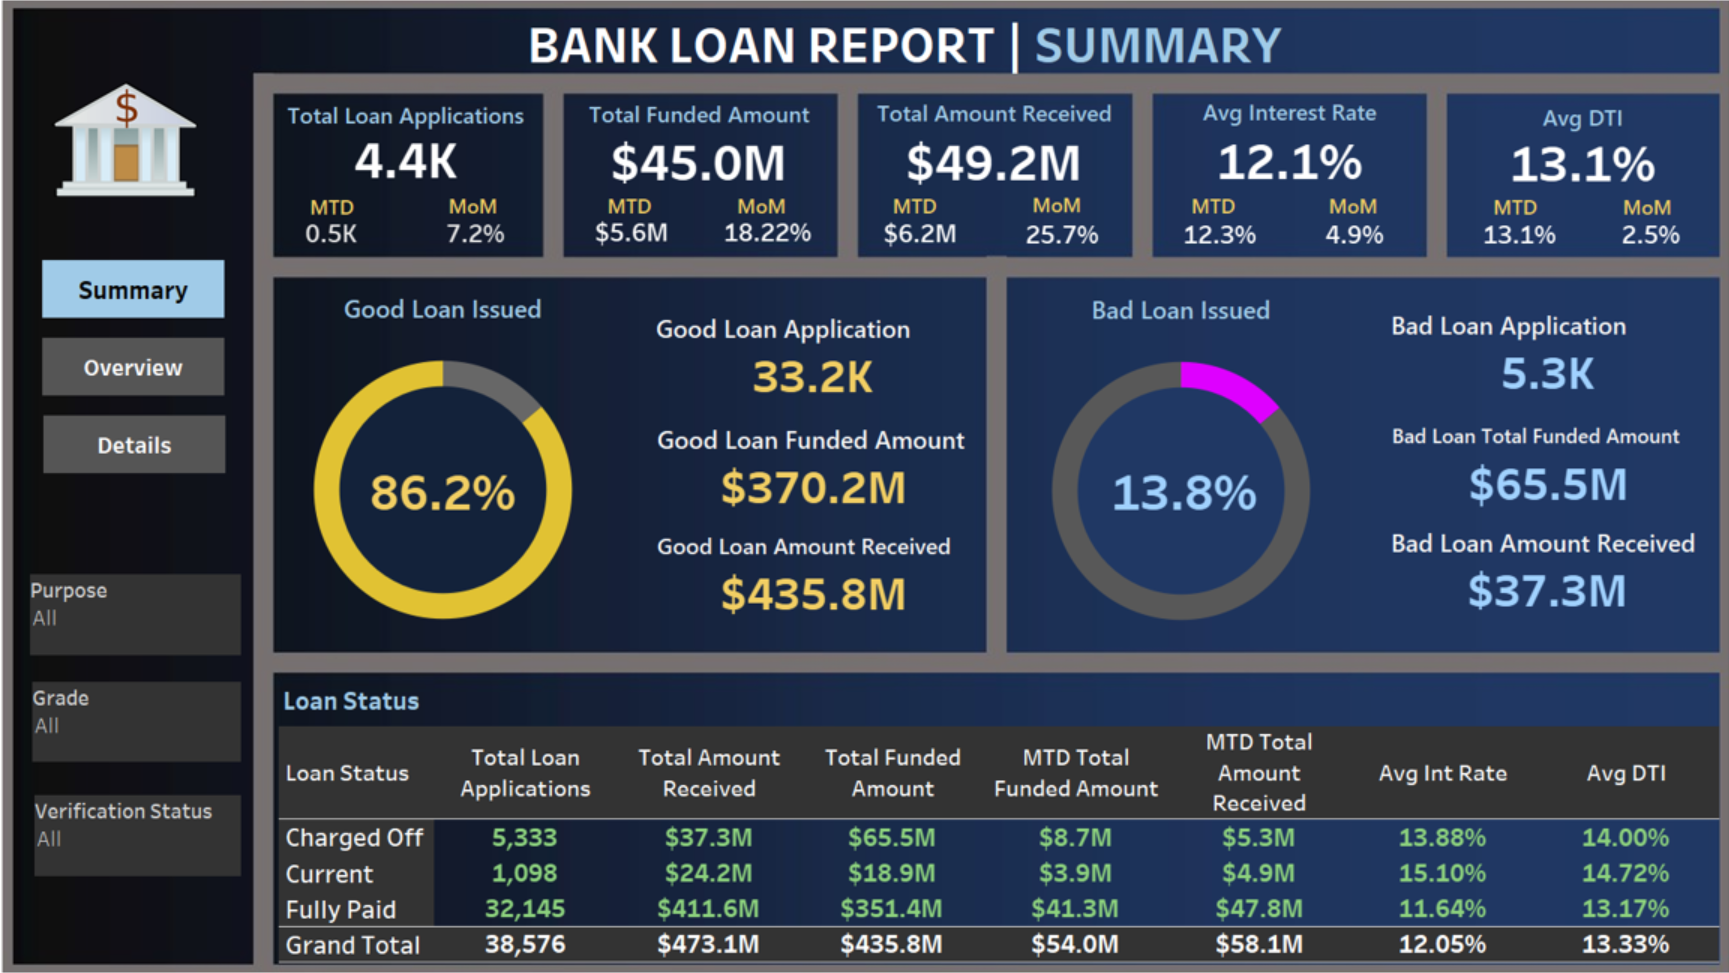

Layout of this report page (visuals, bound fields, positions):
{"tool":"tableau","page":{"name":"SUMMARY","canvas":[1600,900],"ordinal":2},"visuals":[{"type":"image","param":"Image/Tableau Background 1.jpg","box":[8,8,1584,884]},{"type":"text","box":[490,12,694,77]},{"type":"image","param":"Image/Bank-PNG-Free-Download 1.png","box":[65,78,132,119]},{"type":"worksheet","title":"Avg Interest Rate","mark":"Automatic","box":[1058,92,246,85]},{"type":"worksheet","title":"Total Amount Received","mark":"Automatic","box":[791,93,248,85]},{"type":"worksheet","title":"Total Funded Amount","mark":"Automatic","box":[525,94,248,83]},{"type":"worksheet","title":"Total Loan Applications","mark":"Automatic","box":[263,95,243,78]},{"type":"worksheet","title":"Avg DTI","mark":"Automatic","box":[1323,97,244,79]},{"type":"text","box":[921,181,100,30]},{"type":"text","box":[395,182,100,30]},{"type":"text","box":[536,182,100,30]},{"type":"text","box":[655,182,100,30]},{"type":"text","box":[793,182,100,30]},{"type":"text","box":[1062,182,100,30]},{"type":"text","box":[1188,182,100,30]},{"type":"text","box":[268,183,100,30]},{"type":"text","box":[1334,183,100,30]},{"type":"text","box":[1453,183,100,30]},{"type":"worksheet","title":"MTD Avg DTI","mark":"Automatic","box":[1335,201,107,43]},{"type":"worksheet","title":"MoM Avg DTI","mark":"Automatic","box":[1453,201,107,44]},{"type":"worksheet","title":"MTD Total Loan Applications","mark":"Automatic","box":[276,203,83,37]},{"type":"worksheet","title":"MoM Total Loan Applications","mark":"Automatic","box":[402,203,91,37]},{"type":"worksheet","title":"MTD Total Amount Received","mark":"Automatic","box":[805,203,87,37]},{"type":"worksheet","title":"MTD Total Funded Amount","mark":"Automatic","box":[542,205,94,31]},{"type":"worksheet","title":"MTD Avg Interest Rate","mark":"Automatic","box":[1072,205,92,35]},{"type":"worksheet","title":"MoM Total Funded Amount","mark":"Automatic","box":[665,206,91,29]},{"type":"worksheet","title":"MoM Total Amount Received","mark":"Automatic","box":[934,206,84,34]},{"type":"worksheet","title":"MoM Avg Interest Rate","mark":"Automatic","box":[1199,207,81,32]},{"type":"dashboard-object","box":[57,246,164,52]},{"type":"worksheet","title":"Good Loan Issued","mark":"Pie","rows":["Calculation_1534883083439566872","Calculation_1534883083439566872"],"box":[268,268,300,325]},{"type":"worksheet","title":"Bad Loan Issued","mark":"Pie","rows":["Calculation_1534883083439566872","Calculation_1534883083439566872"],"box":[933,269,300,325]},{"type":"worksheet","title":"Bad Loan Application","mark":"Automatic","box":[1264,279,300,90]},{"type":"worksheet","title":"Good Loan Application","mark":"Automatic","box":[602,282,300,90]},{"type":"dashboard-object","box":[57,316,164,52]},{"type":"worksheet","title":"Good Loan Funded Amount","mark":"Automatic","box":[603,382,300,90]},{"type":"worksheet","title":"Bad Loan Total Funded Amount","mark":"Automatic","box":[1265,382,300,90]},{"type":"dashboard-object","box":[58,386,164,52]},{"type":"worksheet","title":"Good Loan Application %","mark":"Automatic","box":[342,406,152,96]},{"type":"worksheet","title":"Bad Loan %","mark":"Automatic","box":[1005,418,163,71]},{"type":"worksheet","title":"Bad Loan Amount Received","mark":"Automatic","box":[1264,475,300,90]},{"type":"worksheet","title":"Good Loan Amount Received","mark":"Automatic","box":[603,479,300,90]},{"type":"filter","title":"Good Loan Issued","param":"[federated.1sxqoc00v92h8717uxid810dnazq].[none:purpose:nk]","box":[46,529,190,73]},{"type":"worksheet","title":"Loan Status","mark":"Automatic","rows":["loan_status"],"box":[270,621,1298,258]},{"type":"filter","title":"Good Loan Issued","param":"[federated.1sxqoc00v92h8717uxid810dnazq].[none:grade:nk]","box":[48,626,188,72]},{"type":"filter","title":"Good Loan Issued","param":"[federated.1sxqoc00v92h8717uxid810dnazq].[none:verification_status:nk]","box":[50,728,186,73]}]}

Visuals, with their boxes in screenshot pixels (x1, y1, x2, y2), scaled from the page's 1600x900 canvas onto the 1729x973 screenshot:
image: rect(9, 9, 1720, 964)
text: rect(530, 13, 1279, 96)
image: rect(70, 84, 213, 213)
"Avg Interest Rate" worksheet: rect(1143, 99, 1409, 191)
"Total Amount Received" worksheet: rect(855, 101, 1123, 192)
"Total Funded Amount" worksheet: rect(567, 102, 835, 191)
"Total Loan Applications" worksheet: rect(284, 103, 547, 187)
"Avg DTI" worksheet: rect(1430, 105, 1693, 190)
text: rect(995, 196, 1103, 228)
text: rect(427, 197, 535, 229)
text: rect(579, 197, 687, 229)
text: rect(708, 197, 816, 229)
text: rect(857, 197, 965, 229)
text: rect(1148, 197, 1256, 229)
text: rect(1284, 197, 1392, 229)
text: rect(290, 198, 398, 230)
text: rect(1442, 198, 1550, 230)
text: rect(1570, 198, 1678, 230)
"MTD Avg DTI" worksheet: rect(1443, 217, 1558, 264)
"MoM Avg DTI" worksheet: rect(1570, 217, 1686, 265)
"MTD Total Loan Applications" worksheet: rect(298, 219, 388, 259)
"MoM Total Loan Applications" worksheet: rect(434, 219, 533, 259)
"MTD Total Amount Received" worksheet: rect(870, 219, 964, 259)
"MTD Total Funded Amount" worksheet: rect(586, 222, 687, 255)
"MTD Avg Interest Rate" worksheet: rect(1158, 222, 1258, 259)
"MoM Total Funded Amount" worksheet: rect(719, 223, 817, 254)
"MoM Total Amount Received" worksheet: rect(1009, 223, 1100, 259)
"MoM Avg Interest Rate" worksheet: rect(1296, 224, 1383, 258)
dashboard-object: rect(62, 266, 239, 322)
"Good Loan Issued" worksheet (Pie marks): rect(290, 290, 614, 641)
"Bad Loan Issued" worksheet (Pie marks): rect(1008, 291, 1332, 642)
"Bad Loan Application" worksheet: rect(1366, 302, 1690, 399)
"Good Loan Application" worksheet: rect(651, 305, 975, 402)
dashboard-object: rect(62, 342, 239, 398)
"Good Loan Funded Amount" worksheet: rect(652, 413, 976, 510)
"Bad Loan Total Funded Amount" worksheet: rect(1367, 413, 1691, 510)
dashboard-object: rect(63, 417, 240, 474)
"Good Loan Application %" worksheet: rect(370, 439, 534, 543)
"Bad Loan %" worksheet: rect(1086, 452, 1262, 529)
"Bad Loan Amount Received" worksheet: rect(1366, 514, 1690, 611)
"Good Loan Amount Received" worksheet: rect(652, 518, 976, 615)
"Good Loan Issued" filter: rect(50, 572, 255, 651)
"Loan Status" worksheet: rect(292, 671, 1694, 950)
"Good Loan Issued" filter: rect(52, 677, 255, 755)
"Good Loan Issued" filter: rect(54, 787, 255, 866)
